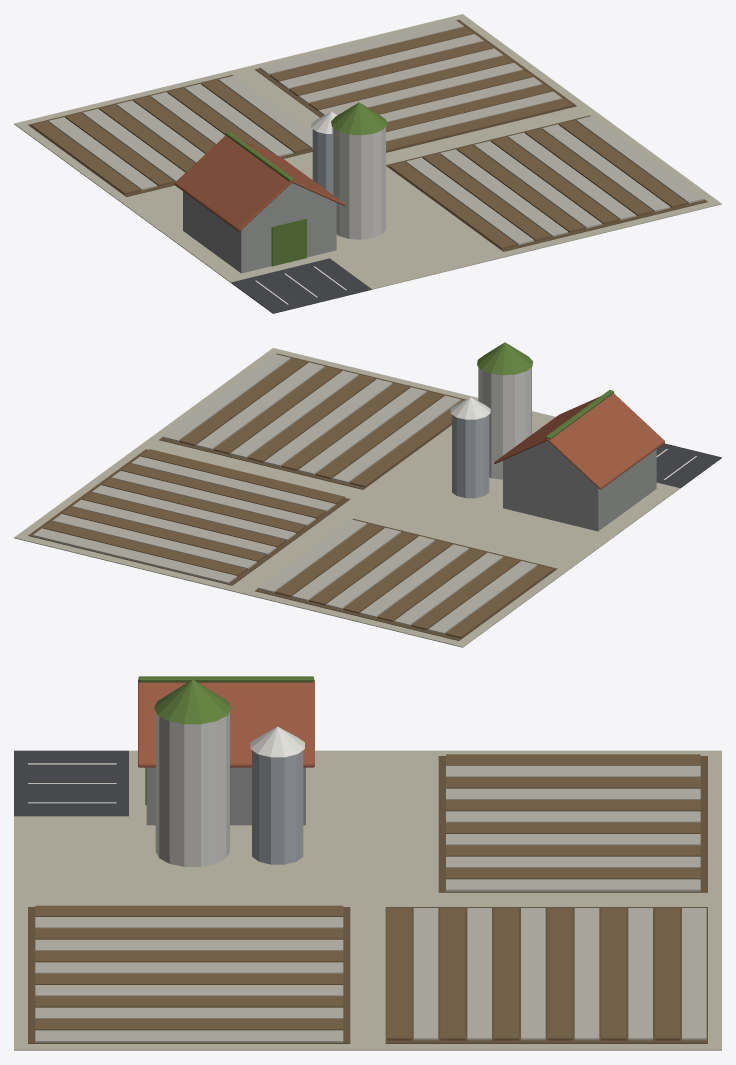
File: farm_bare.glb
3 views of the same model, one above another, from view 1: azimuth 30°, elevation 25°; view 2: azimuth 150°, elevation 25°; view 3: azimuth 270°, elevation 25° (orthographic). The views are drawn at different scales.
Visible parts, largest first — view 1: farm_bare; view 2: farm_bare; view 3: farm_bare.
Part boxes in pixels (x1,y1,x2,y2): farm_bare: (14, 14, 721, 313); farm_bare: (14, 342, 721, 647); farm_bare: (14, 676, 721, 1050).
Size of the model in its own units: 40 by 10.8 by 40.
